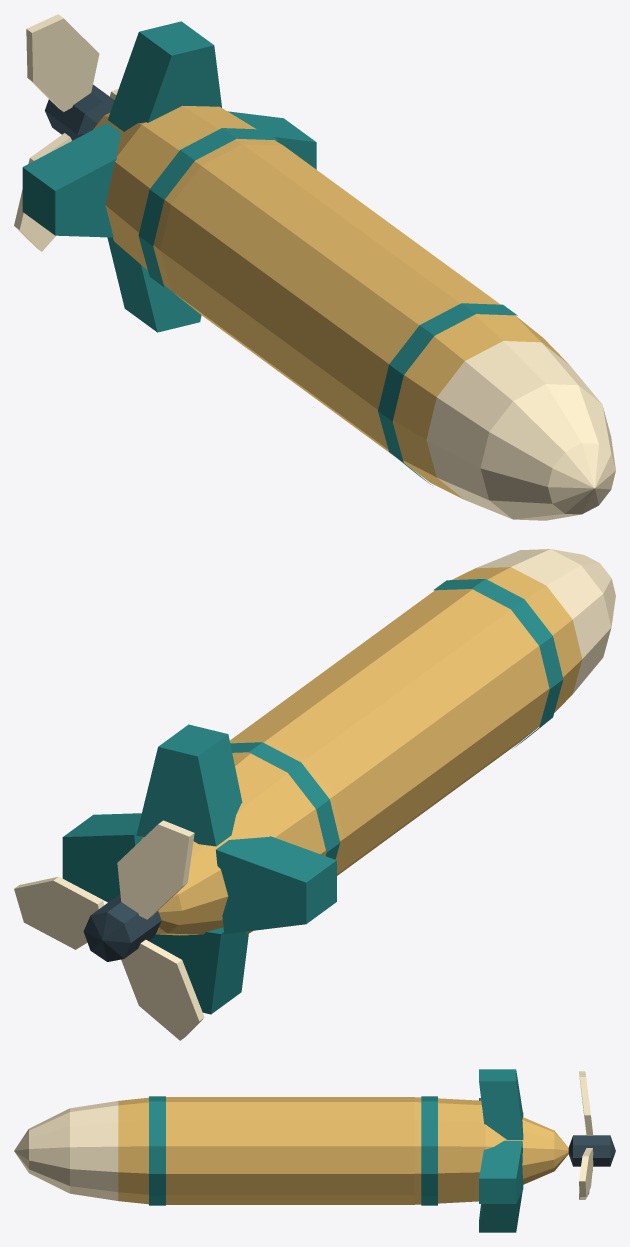
Rendered from torpedo-player.glb.
The picture shows the model from 3 angles, top to bottom: view 1: azimuth 30°, elevation 25°; view 2: azimuth 150°, elevation 25°; view 3: azimuth 270°, elevation 25°; orthographic projection. The views are drawn at different scales.
Visible parts, largest first — view 1: hull, propeller; view 2: hull, propeller; view 3: hull, propeller.
Part boxes in pixels (x1,y1,x2,y2): hull: (22, 21, 615, 520); propeller: (14, 14, 118, 251); hull: (62, 549, 615, 1014); propeller: (14, 820, 204, 1040); hull: (14, 1069, 568, 1232); propeller: (568, 1071, 615, 1199).
Bounding box in the file's own units: 0.92 × 0.92 × 3.23.
